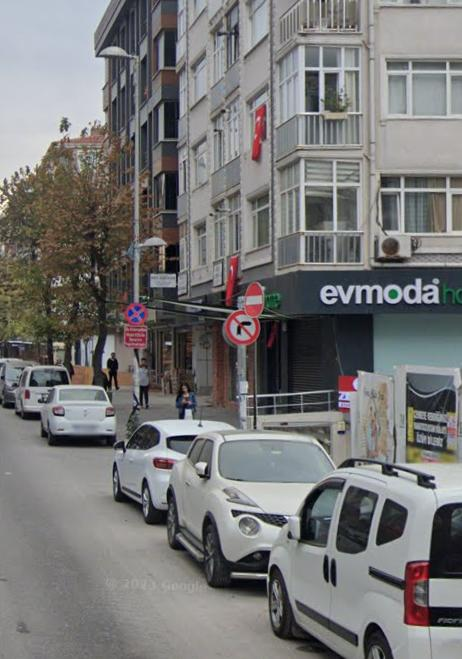rightturnsareforbidden: (229, 311, 255, 340)
